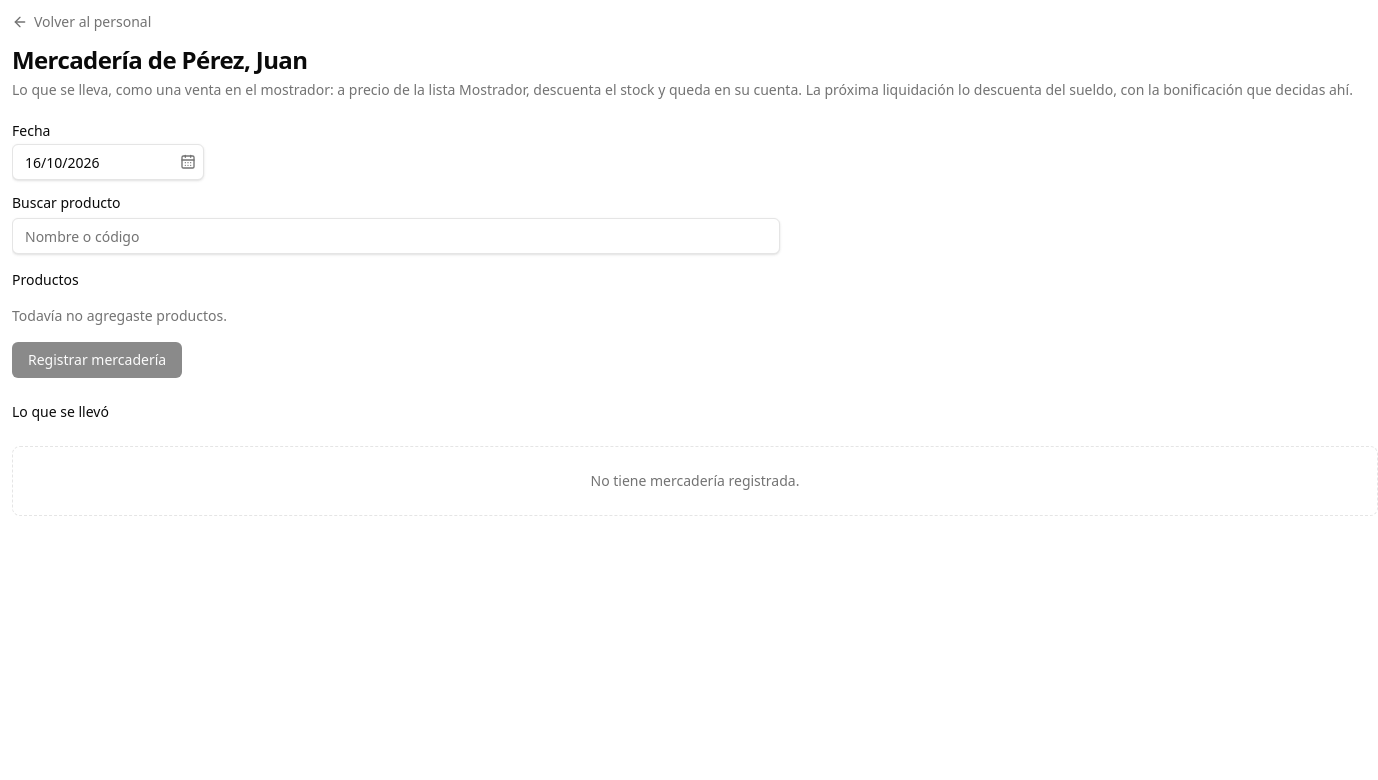
EmployeeGoodsPage › offers to price again when pricing failed (a dropped connection), without retyping
Check: the text "No tiene mercadería registrada." is shown, box [12,446,1377,516]
Type "asa" into the search field labelled "Buscar producto" at (396, 236), box [12,218,780,254]
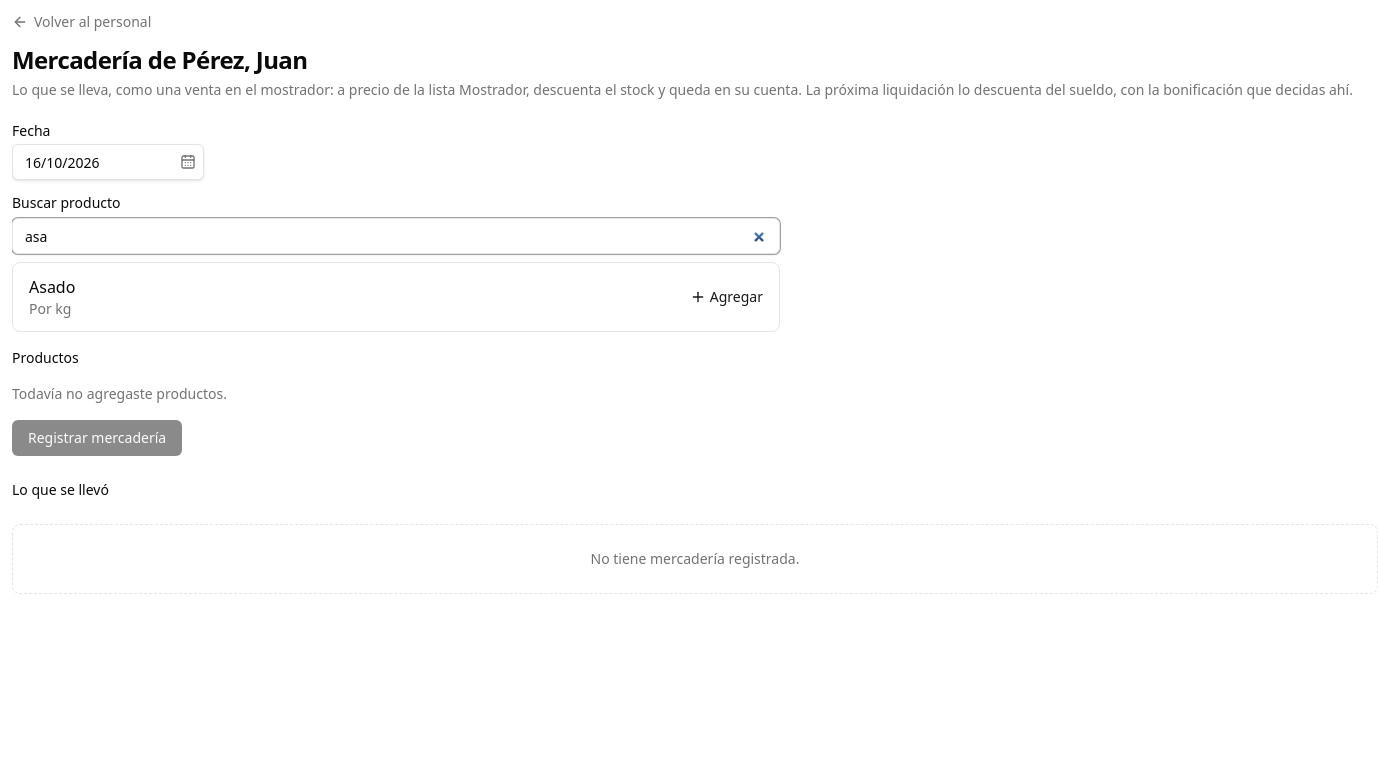
Click the button "Agregar Asado Por kg" at (52, 287), box [12,262,780,332]
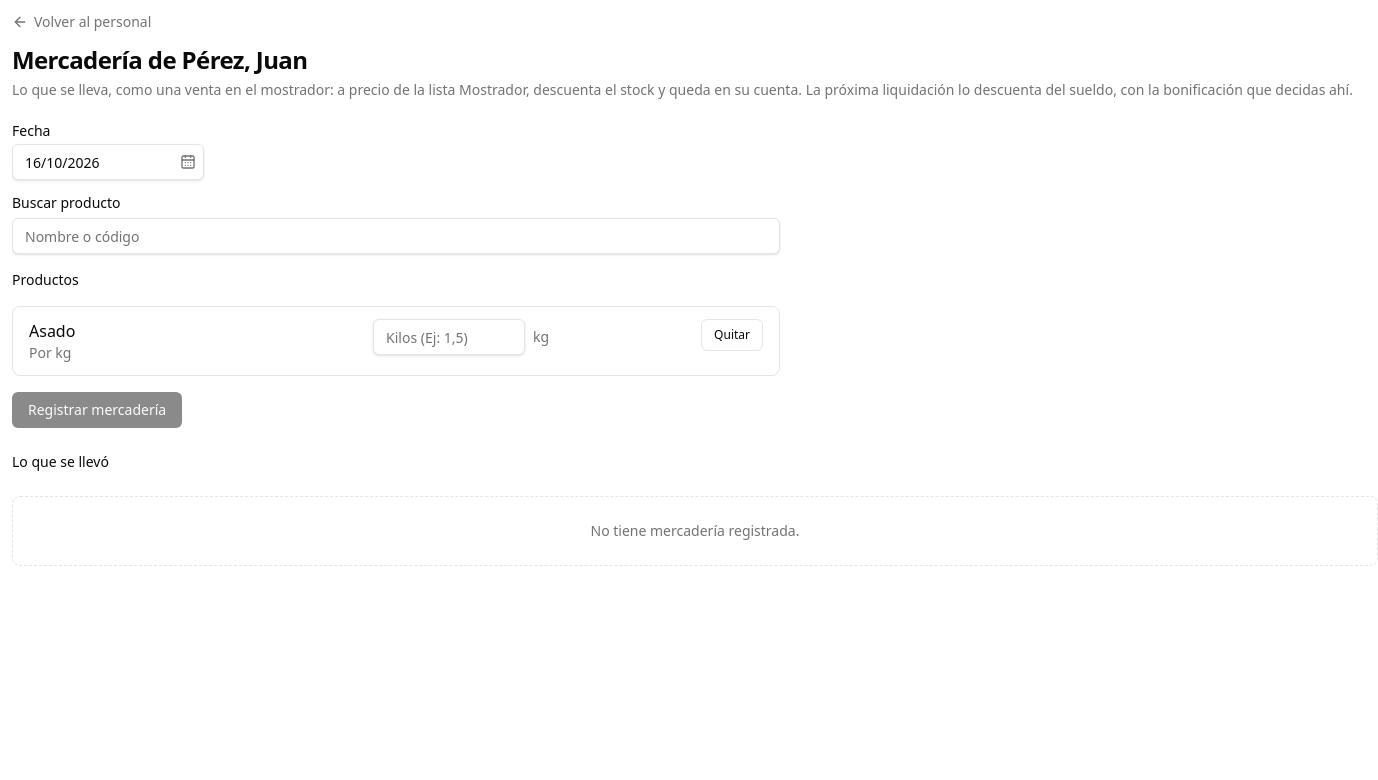
Type "1,5" into the field named "Cantidad de Asado Por kg" at (449, 337), box [373,319,525,355]
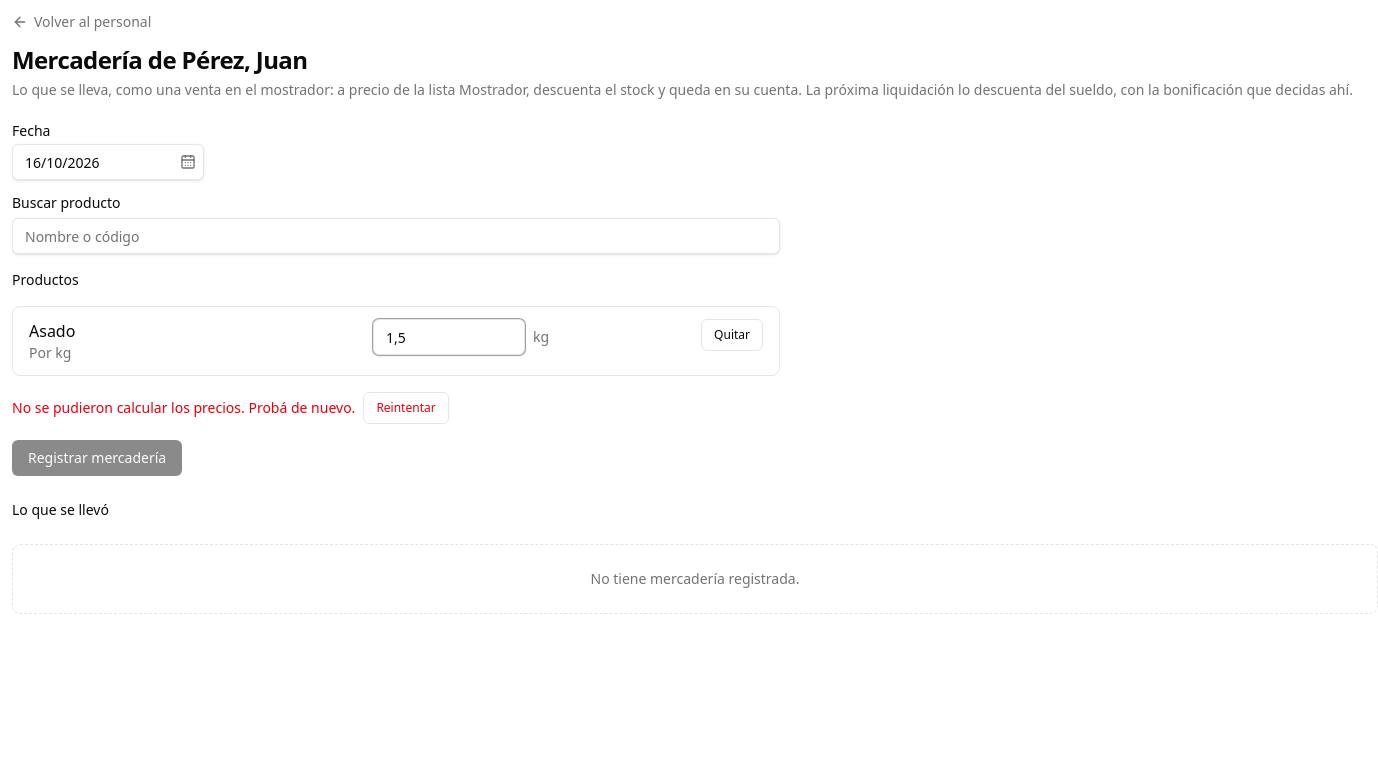
Check: the button "Registrar mercadería" is disabled, box [12,440,182,476]
Check: the text "No se pudieron calcular los precios. Probá de nuevo." is shown, box [12,398,355,417]
Click the button "Reintentar" at (406, 408), box [363,392,449,424]
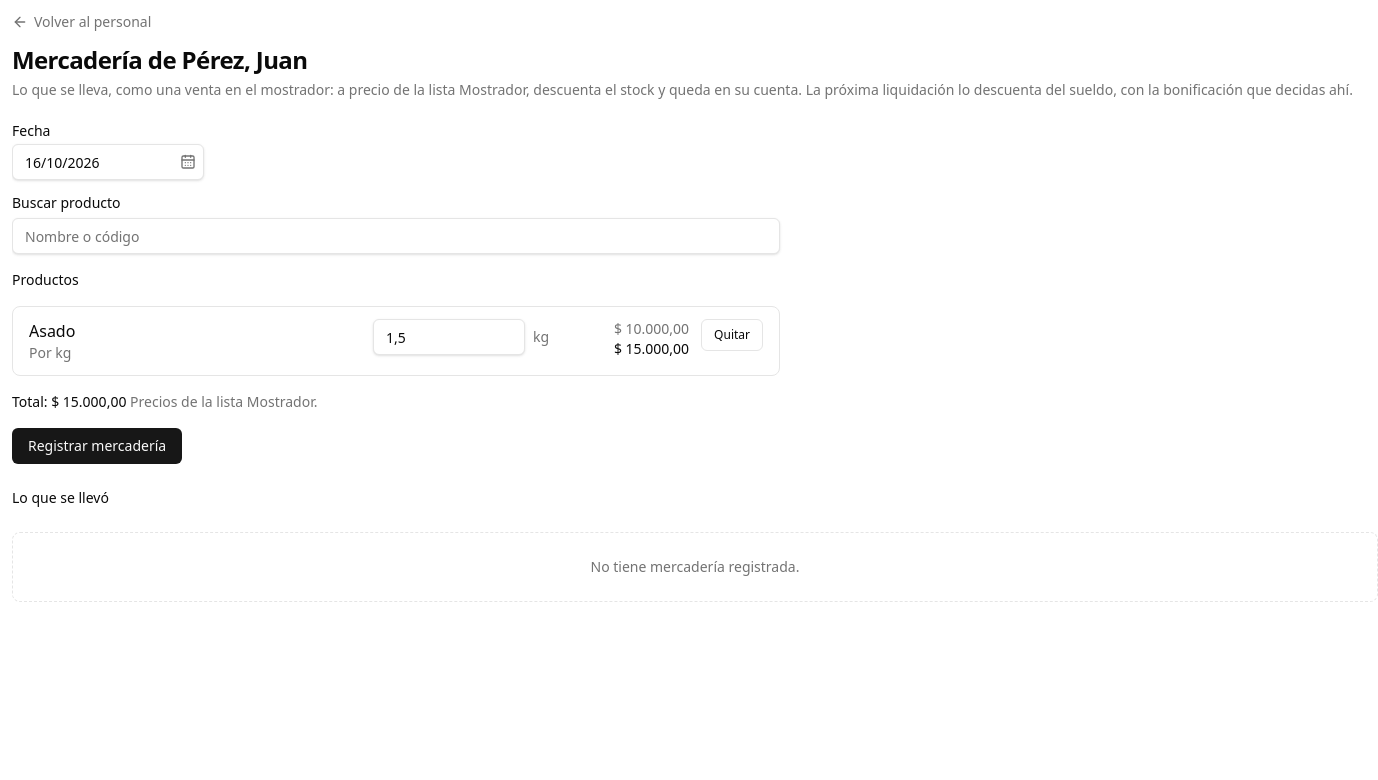
Check: the text "Total: $ 15.000,00" is shown, box [12,392,126,411]
Check: the button "Registrar mercadería" is enabled, box [12,428,182,464]
